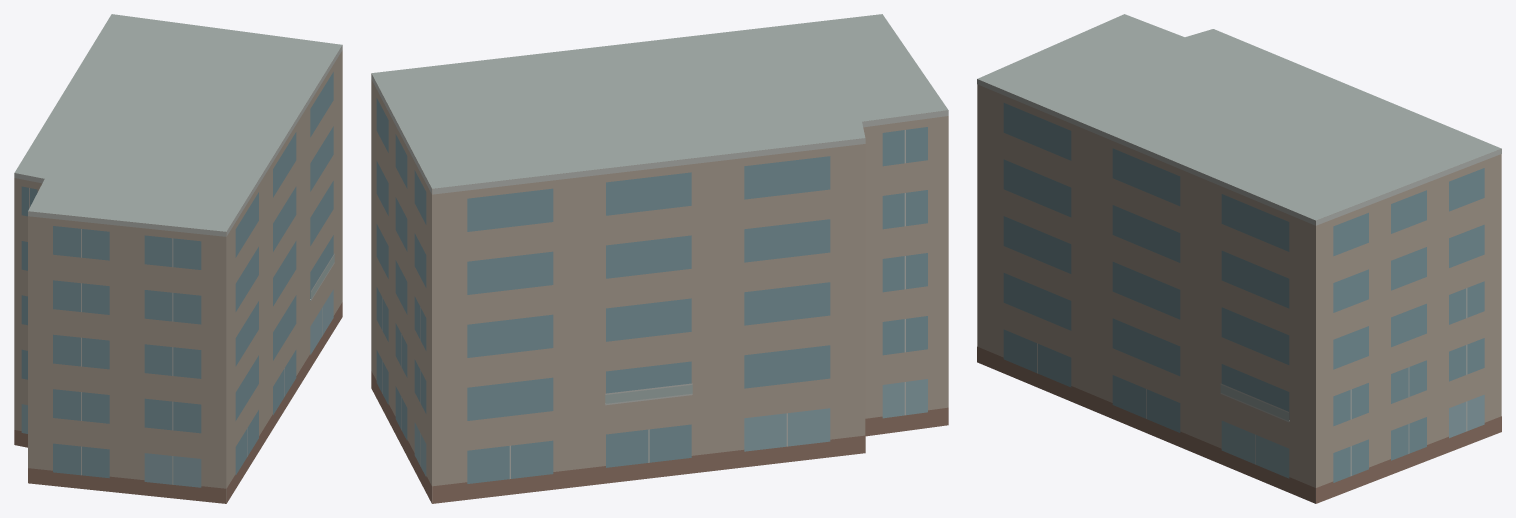
Rendered from survey-upis-33019111.glb.
3 renders of one model, left to right at view 1: azimuth 30°, elevation 25°; view 2: azimuth 150°, elevation 25°; view 3: azimuth 270°, elevation 25°, orthographic. The views are drawn at different scales.
Visible parts, largest first — view 1: survey-upis-33019111.tmp; view 2: survey-upis-33019111.tmp; view 3: survey-upis-33019111.tmp.
Boxes of the visible parts, x1,y1,x2,y2 form: survey-upis-33019111.tmp: [14, 14, 342, 503]; survey-upis-33019111.tmp: [371, 14, 948, 503]; survey-upis-33019111.tmp: [977, 14, 1501, 503].
Bounding box in the file's own units: 20.57 × 13.15 × 22.08.
